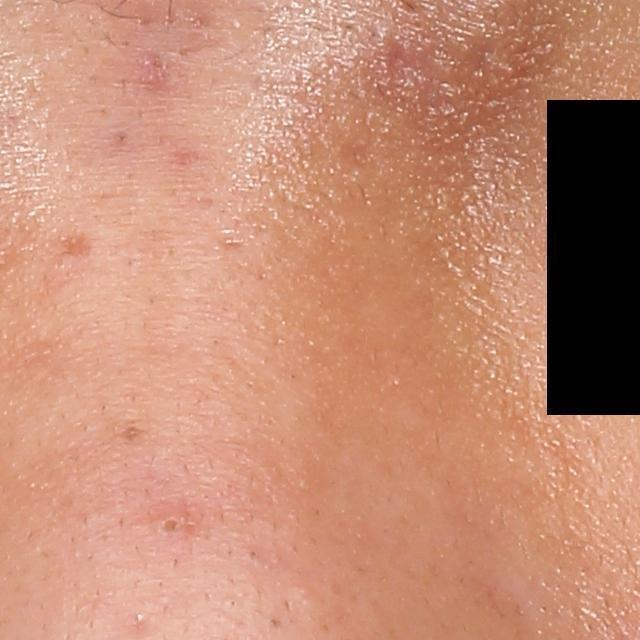comedo: (157, 510, 182, 535), (129, 607, 146, 624)
